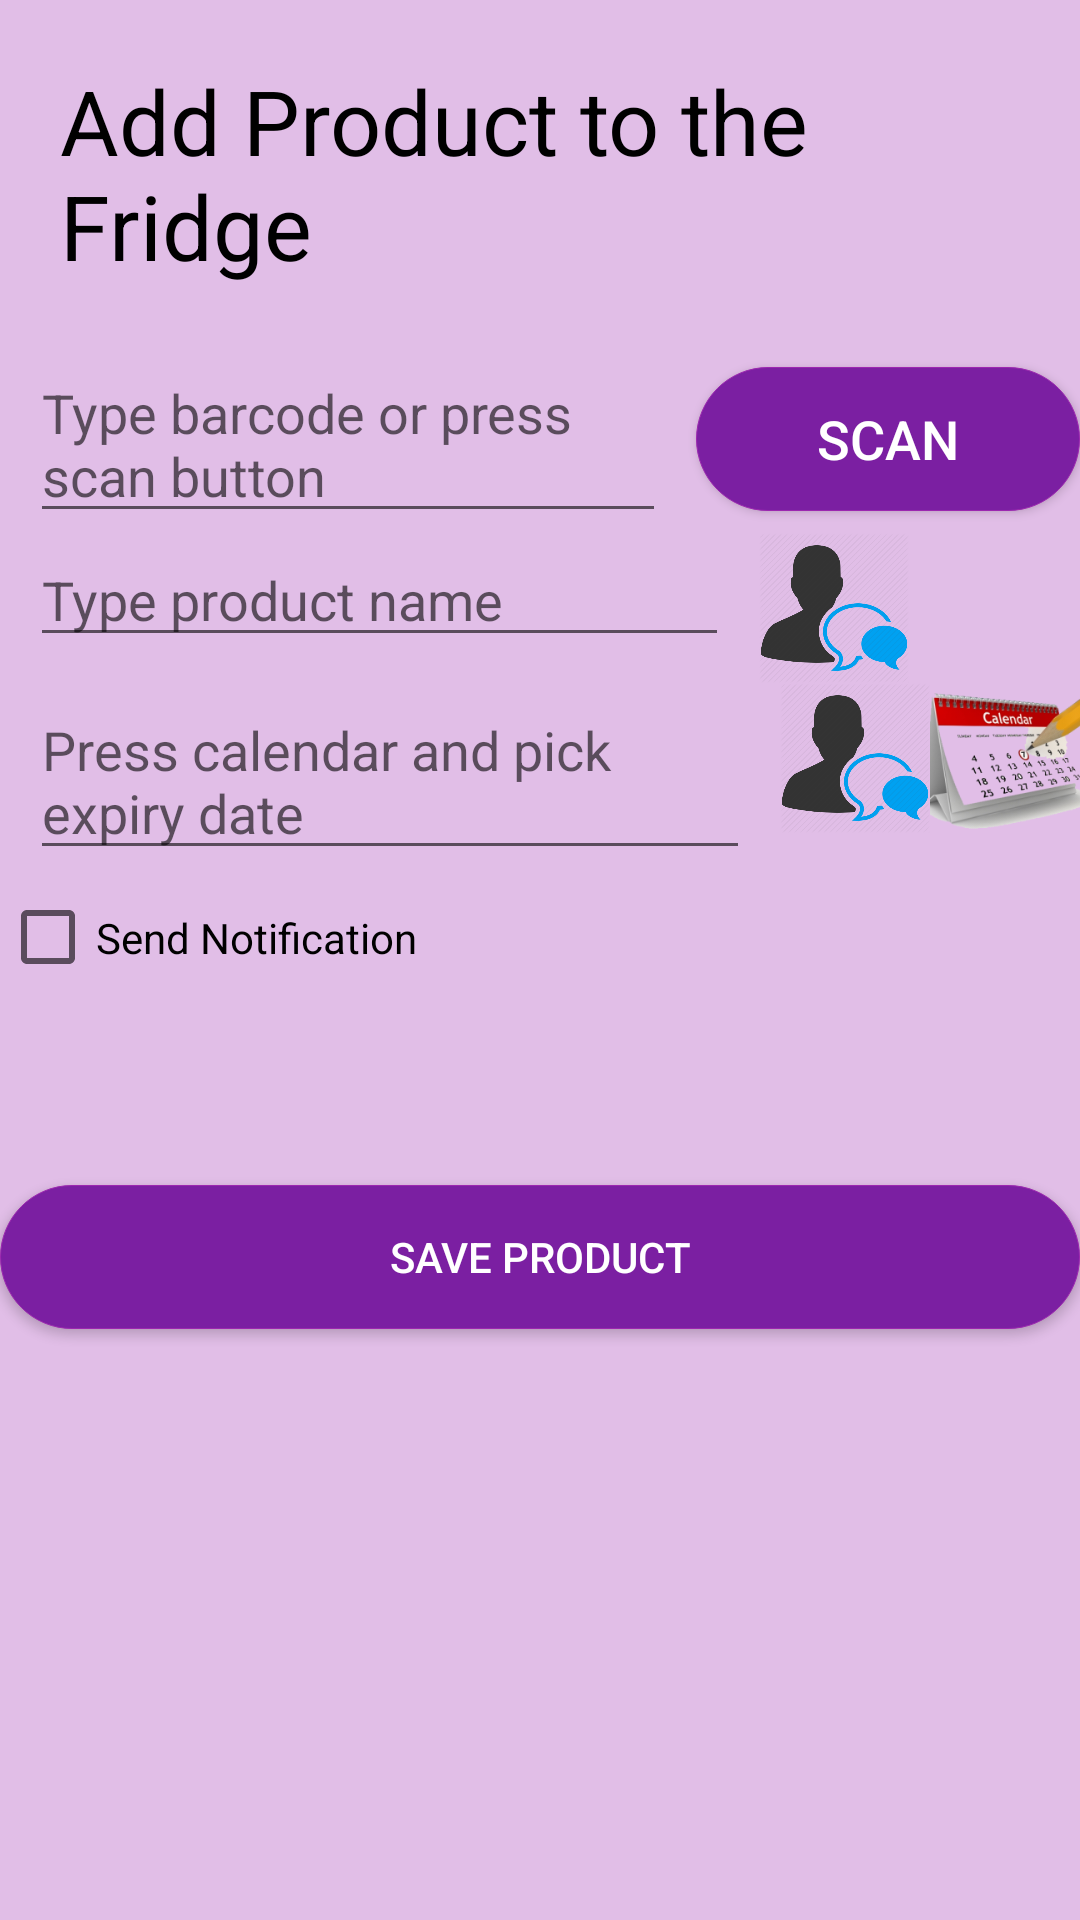

Where icons sit on this 1080×1920 app screen, as (x1, y1, x2, y2):
voice: (761, 545, 907, 671), (782, 695, 928, 821)
